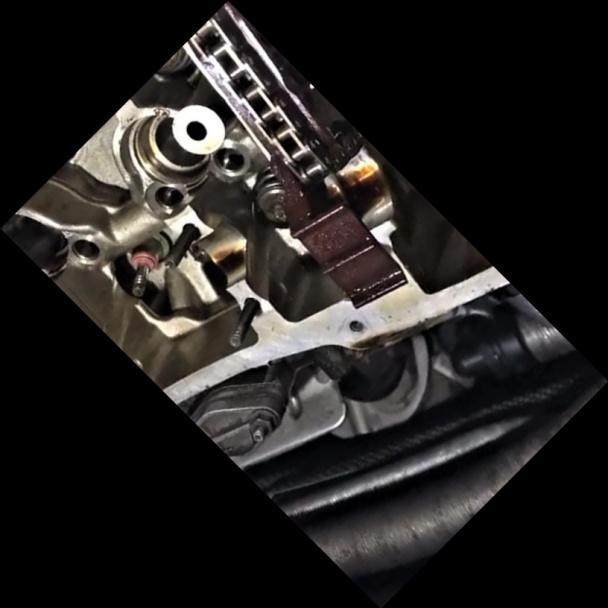hole: (344, 315, 365, 335)
